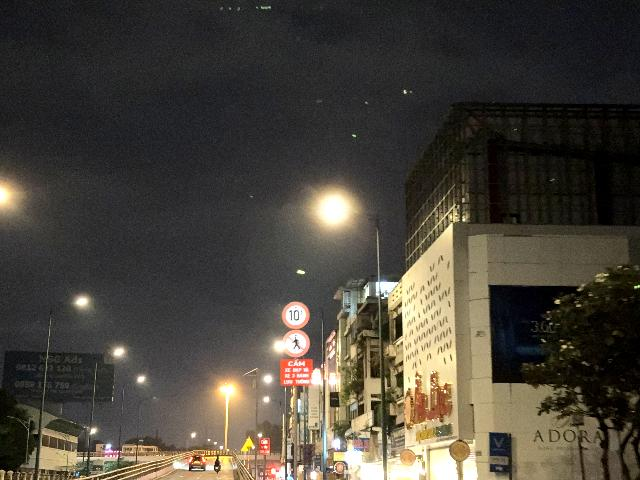cam-nguoi-di-bo: (282, 330, 311, 358)
han-che-trong-luong-xe: (281, 301, 310, 329)
